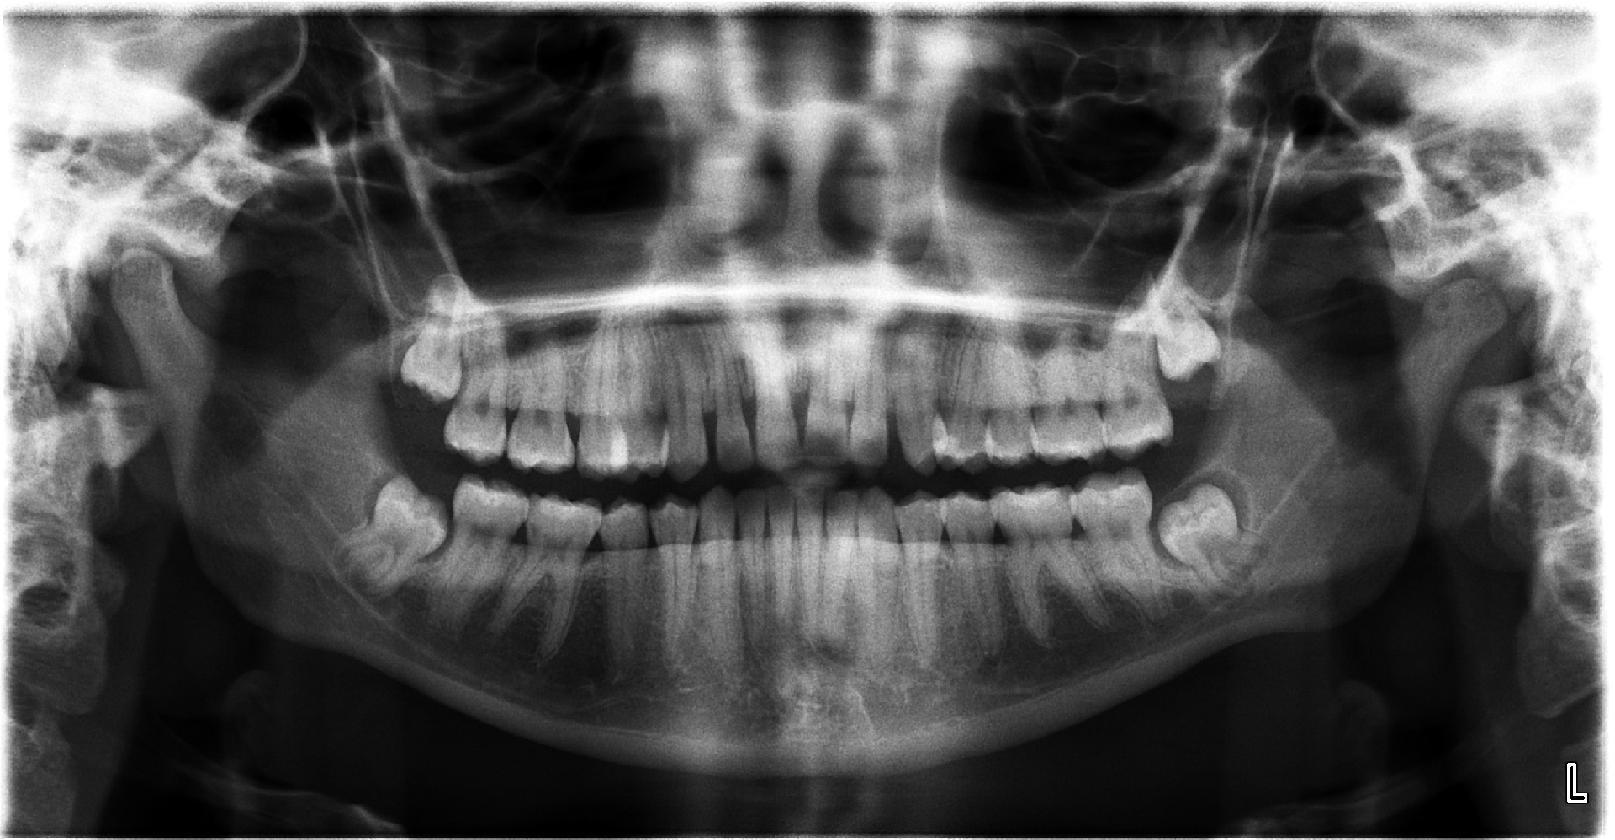Mesio-angular: (329, 469, 455, 600), (1150, 480, 1265, 595)
